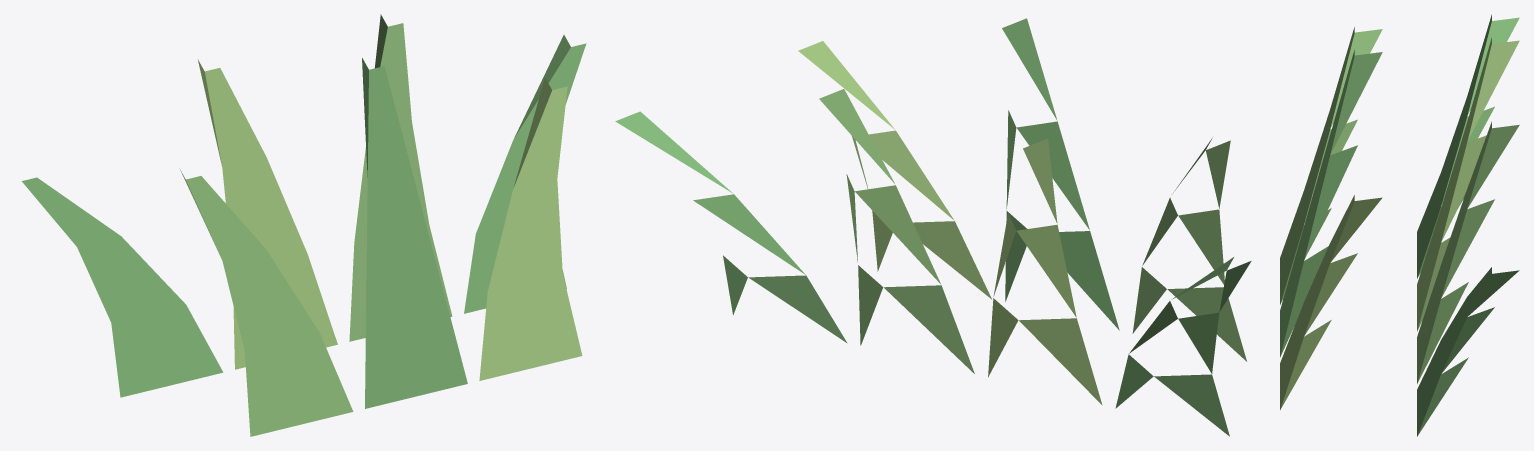
The model's file is grass_tuft_a.glb.
3 renders of one model, left to right at view 1: azimuth 30°, elevation 25°; view 2: azimuth 150°, elevation 25°; view 3: azimuth 270°, elevation 25°, orthographic. The views are drawn at different scales.
Parts seen in each view (by area): view 1: grass_tuft_a_03_blade, grass_tuft_a_05_blade, grass_tuft_a_01_blade, grass_tuft_a_00_blade, grass_tuft_a_02_blade, grass_tuft_a_04_blade, grass_tuft_a_06_blade; view 2: grass_tuft_a_04_blade, grass_tuft_a_02_blade, grass_tuft_a_03_blade, grass_tuft_a_05_blade, grass_tuft_a_06_blade, grass_tuft_a_01_blade, grass_tuft_a_00_blade; view 3: grass_tuft_a_03_blade, grass_tuft_a_04_blade, grass_tuft_a_02_blade, grass_tuft_a_05_blade, grass_tuft_a_06_blade, grass_tuft_a_01_blade, grass_tuft_a_00_blade.
Boxes of the visible parts, x1,y1,x2,y2 form: grass_tuft_a_03_blade: (362,58,467,408); grass_tuft_a_05_blade: (479,78,582,380); grass_tuft_a_01_blade: (179,168,353,436); grass_tuft_a_00_blade: (21,177,223,397); grass_tuft_a_02_blade: (197,59,337,369); grass_tuft_a_04_blade: (349,14,452,341); grass_tuft_a_06_blade: (464,35,586,313); grass_tuft_a_04_blade: (819,89,974,373); grass_tuft_a_02_blade: (988,138,1102,405); grass_tuft_a_03_blade: (1002,18,1119,330); grass_tuft_a_05_blade: (798,41,991,299); grass_tuft_a_06_blade: (615,111,847,343); grass_tuft_a_01_blade: (1132,137,1246,361); grass_tuft_a_00_blade: (1115,257,1251,436); grass_tuft_a_03_blade: (1280,50,1382,357); grass_tuft_a_04_blade: (1417,121,1519,383); grass_tuft_a_02_blade: (1417,37,1519,331); grass_tuft_a_05_blade: (1280,195,1382,409); grass_tuft_a_06_blade: (1417,267,1519,436); grass_tuft_a_01_blade: (1280,27,1382,304); grass_tuft_a_00_blade: (1417,14,1519,278).
Size of the model in its own units: 0.987 by 0.5 by 0.385.
